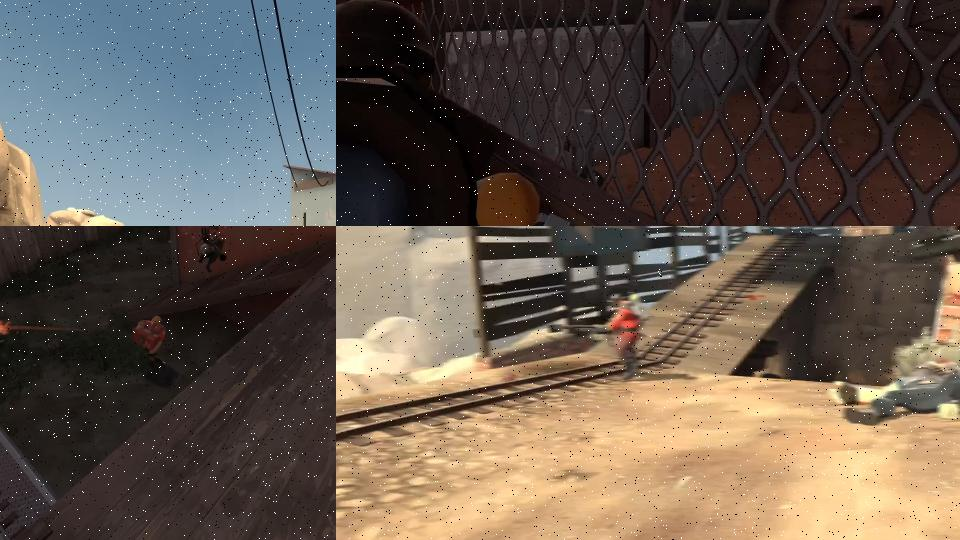Enemy: (336, 0, 570, 226), (548, 292, 645, 379), (129, 314, 171, 374), (192, 226, 228, 274)
